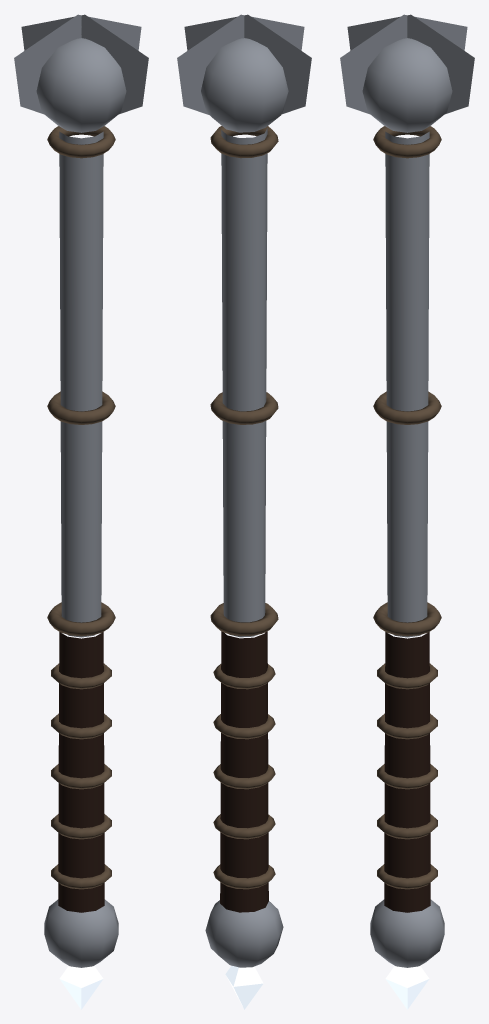
File: scepter_0.glb
The picture shows the model from 3 angles, left to right: view 1: azimuth 90°, elevation 25°; view 2: azimuth 150°, elevation 25°; view 3: azimuth 270°, elevation 25°; orthographic projection.
Visible parts, largest first — view 1: scepter_0; view 2: scepter_0; view 3: scepter_0.
Part boxes in pixels (x1=…): scepter_0: x1=14, y1=14, x2=148, y2=1009; scepter_0: x1=177, y1=14, x2=311, y2=1009; scepter_0: x1=340, y1=14, x2=474, y2=1009.
Size of the model in its own units: 0.12 by 0.893 by 0.1099.
